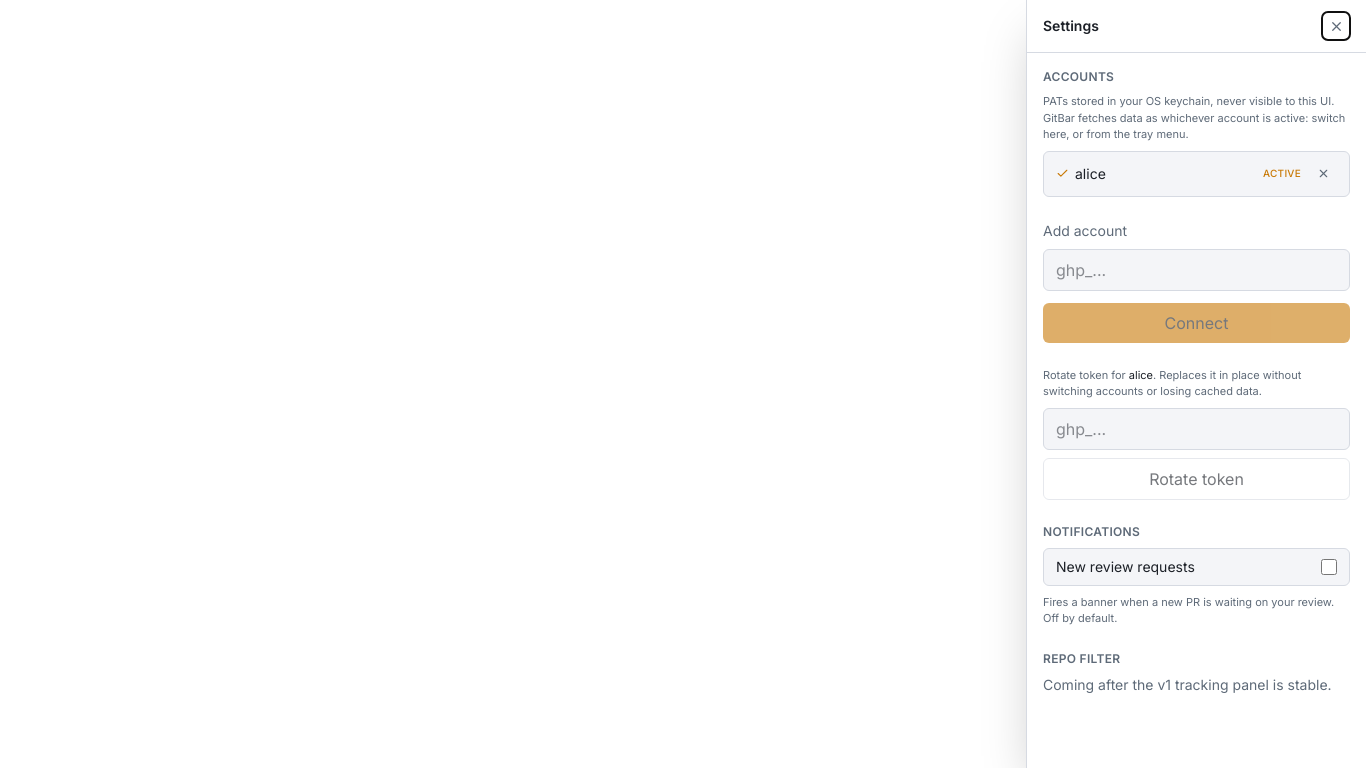
Test: Settings › shows the add-account error and keeps the token field populated on failure
Type "ghp_bad" into the password field with placeholder "ghp_...".
click(1196, 270); type("ghp_bad")  # box [1043,248,1350,290]
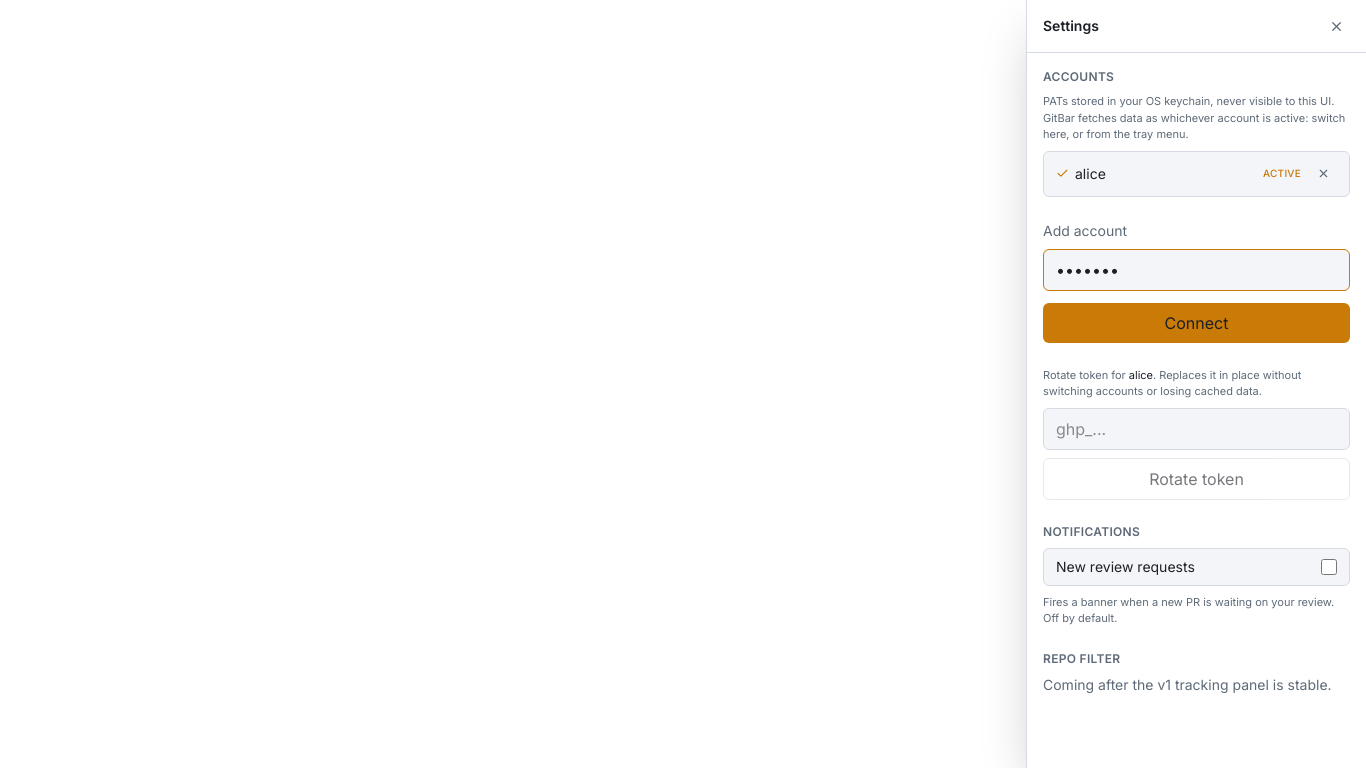
Click the button "Connect".
click(1196, 322)  # box [1043,302,1350,342]
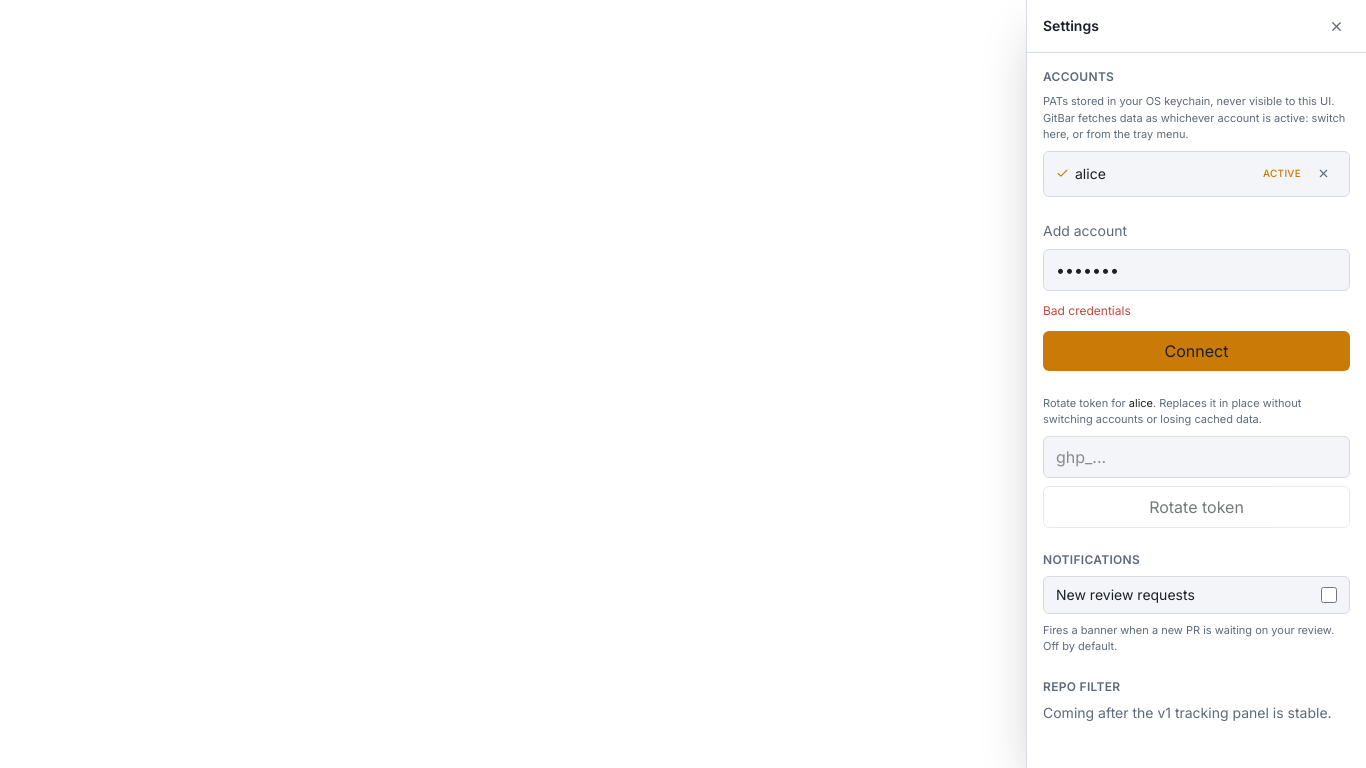
expect the text "Bad credentials" is shown: met, box [1043,302,1131,318]
